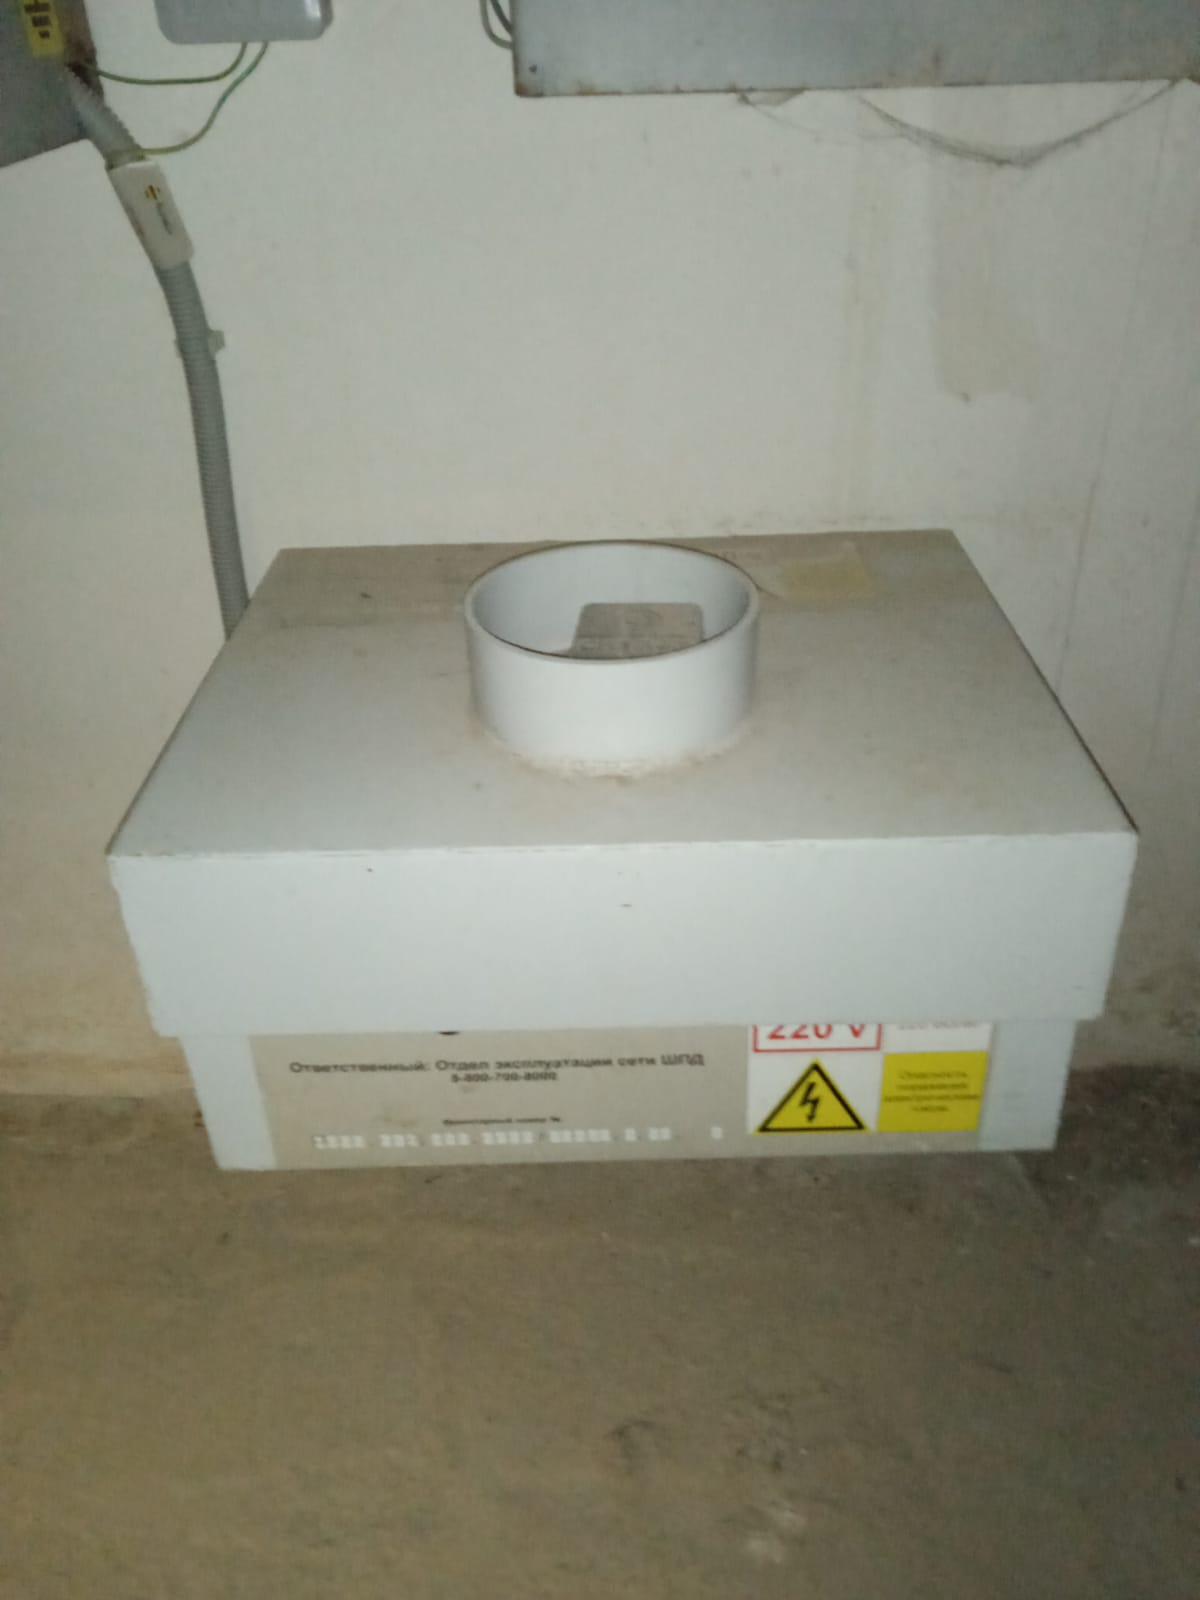shta-ps: (91, 514, 1152, 1186)
